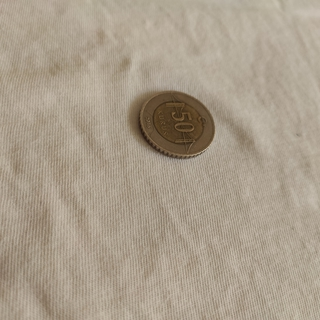50KURUS: (136, 89, 216, 160)
